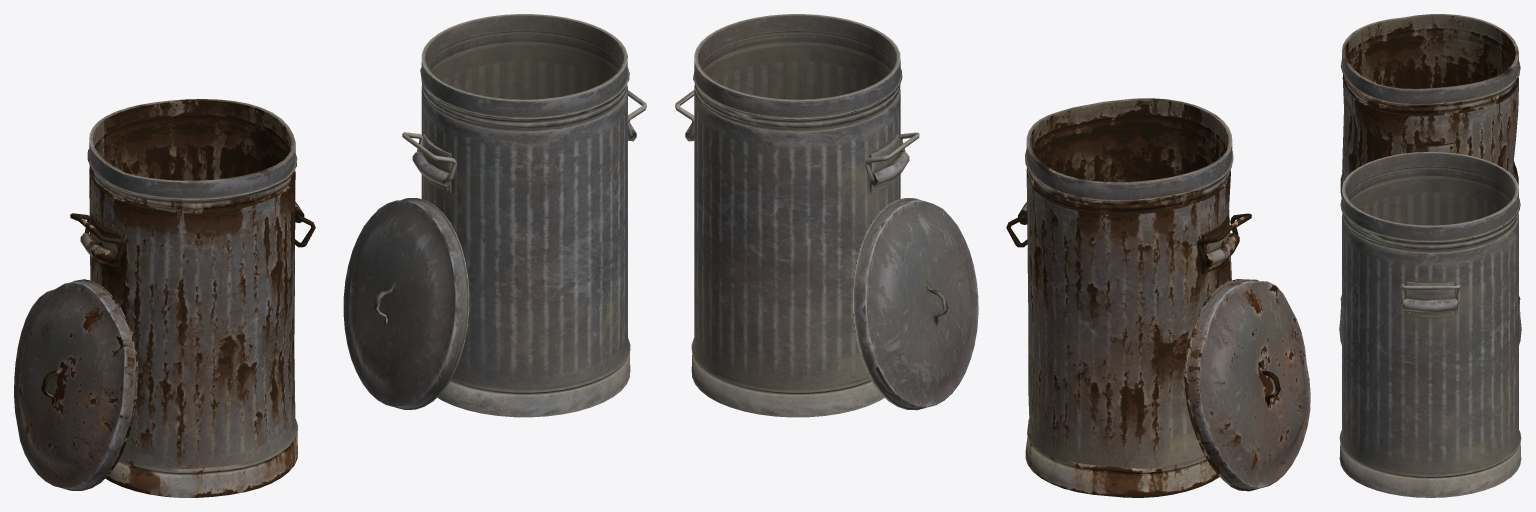
Rendered from metal_trash_can.glb.
3 views of the same model, side by side, from view 1: azimuth 30°, elevation 25°; view 2: azimuth 150°, elevation 25°; view 3: azimuth 270°, elevation 25° (orthographic). The views are drawn at different scales.
Visible parts, largest first — view 1: metal_trash_can, metal_trash_can_rust, metal_trash_can_lid, metal_trash_can_rust_lid; view 2: metal_trash_can, metal_trash_can_rust, metal_trash_can_lid, metal_trash_can_rust_lid; view 3: metal_trash_can, metal_trash_can_rust, metal_trash_can_handle_right.
Boxes of the visible parts, <box> form: metal_trash_can: <box>412,14,636,417</box>; metal_trash_can_rust: <box>80,99,304,497</box>; metal_trash_can_lid: <box>343,198,469,409</box>; metal_trash_can_rust_lid: <box>14,279,137,490</box>; metal_trash_can: <box>685,14,909,417</box>; metal_trash_can_rust: <box>1018,98,1239,497</box>; metal_trash_can_lid: <box>852,198,978,410</box>; metal_trash_can_rust_lid: <box>1184,279,1310,491</box>; metal_trash_can: <box>1339,152,1521,497</box>; metal_trash_can_rust: <box>1340,14,1520,317</box>; metal_trash_can_handle_right: <box>1400,283,1460,304</box>.
Bounding box in the file's own units: 1.78 × 0.9062 × 0.5543.
Materials: 2 (2 with a texture image).
